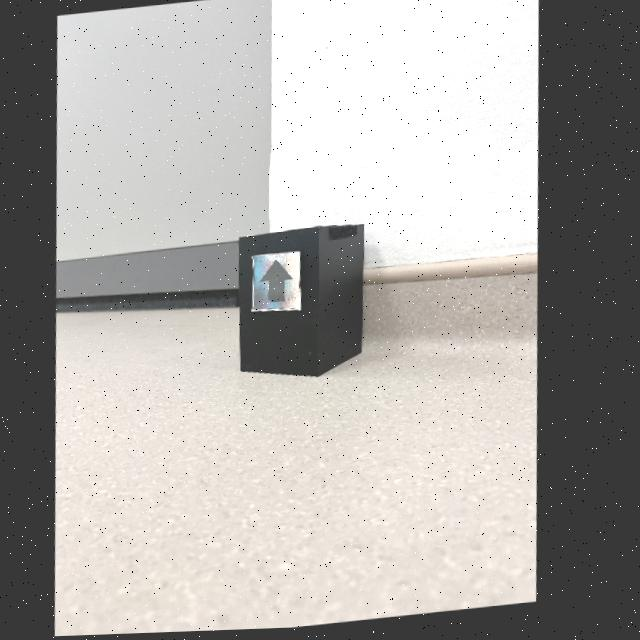UP: (264, 263, 297, 304)
